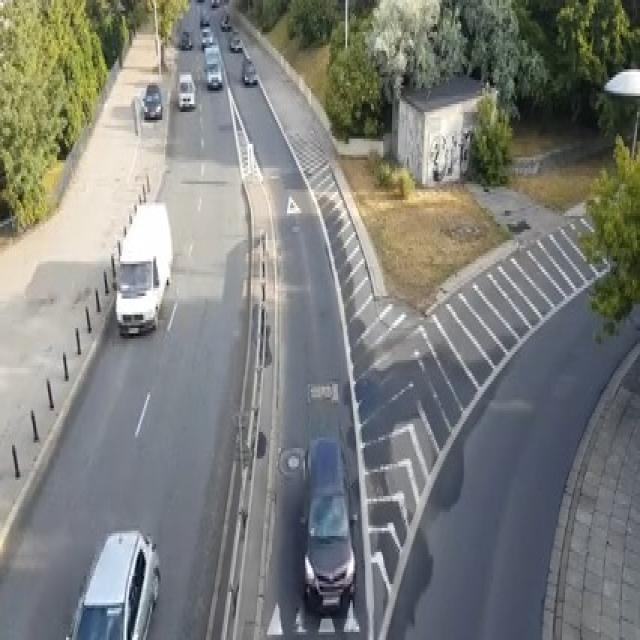car: (63, 528, 161, 637), (299, 435, 356, 613), (141, 83, 162, 120), (178, 72, 195, 109), (240, 56, 257, 85), (206, 61, 222, 88), (204, 42, 221, 66), (200, 27, 213, 48), (180, 29, 192, 48), (228, 34, 242, 50), (219, 13, 230, 30), (200, 10, 209, 27), (210, 0, 219, 5), (196, 0, 204, 3)
truck: (112, 200, 172, 336)
